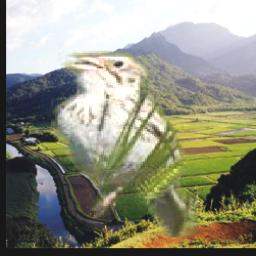Sparrow: (51, 52, 198, 238)
